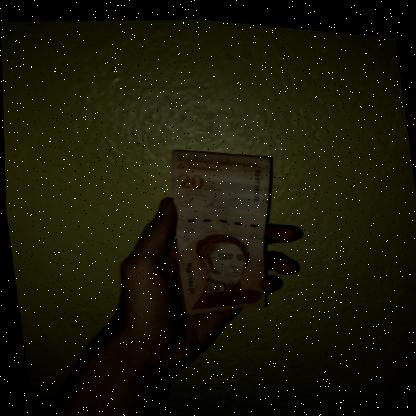twenty-front-vef: (161, 135, 291, 320)
